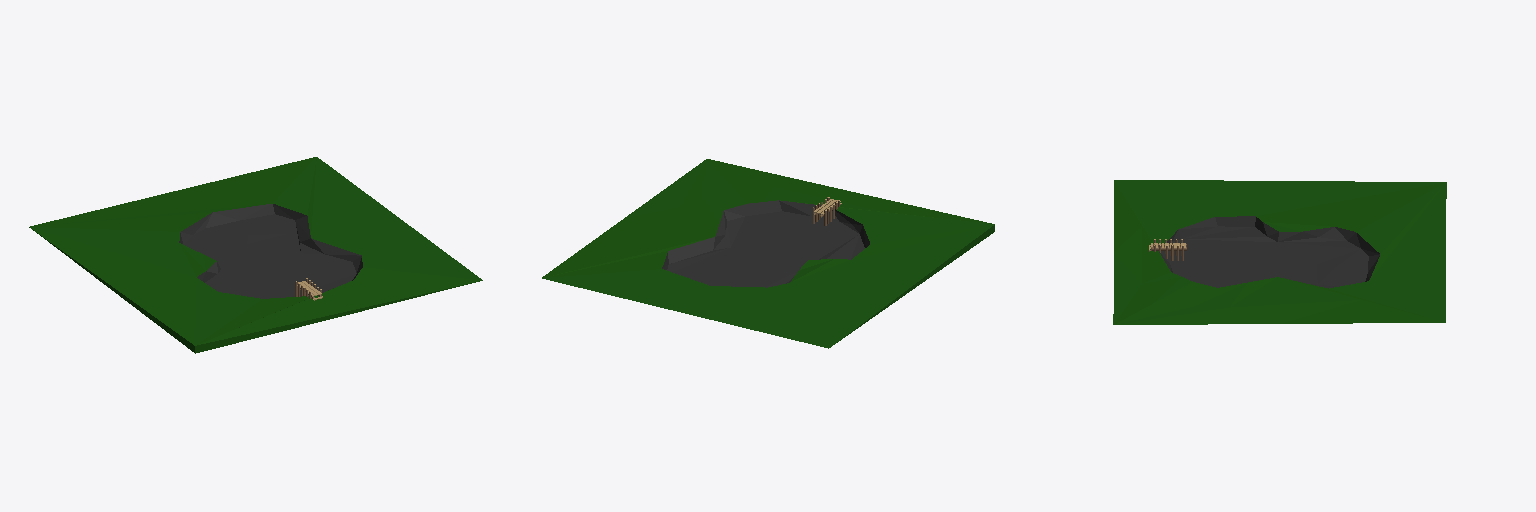
File: Lake.obj
3 views of the same model, side by side, from view 1: azimuth 30°, elevation 25°; view 2: azimuth 150°, elevation 25°; view 3: azimuth 270°, elevation 25° (orthographic).
Visible parts, largest first — view 1: Ground_Grid; view 2: Ground_Grid; view 3: Ground_Grid.
Boxes of the visible parts, box(x1,y1,x2,y2) form: Ground_Grid: box(29, 157, 482, 353); Ground_Grid: box(542, 159, 994, 348); Ground_Grid: box(1113, 180, 1446, 324).
Bounding box in the file's own units: 124 × 10.43 × 124.